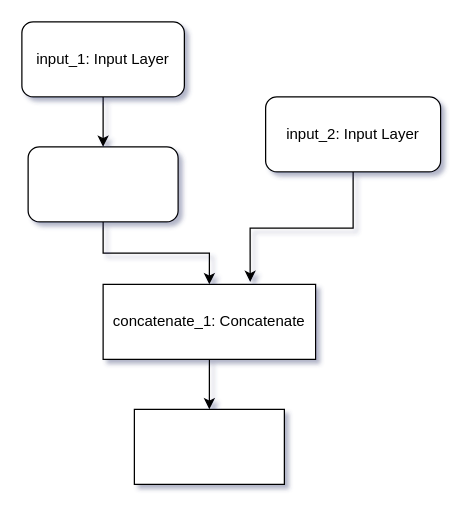
The diagram is 470 pixels wide and 514 high, and some of its shapes have lost their labels. The shapes that lost their labels are listed below. From the top down, each one's box as (x1, y1, x2, y2) in pixels, then its label:
(27, 146, 178, 222): lstm_1: LSTM
(133, 408, 284, 484): dense_1: Dense
